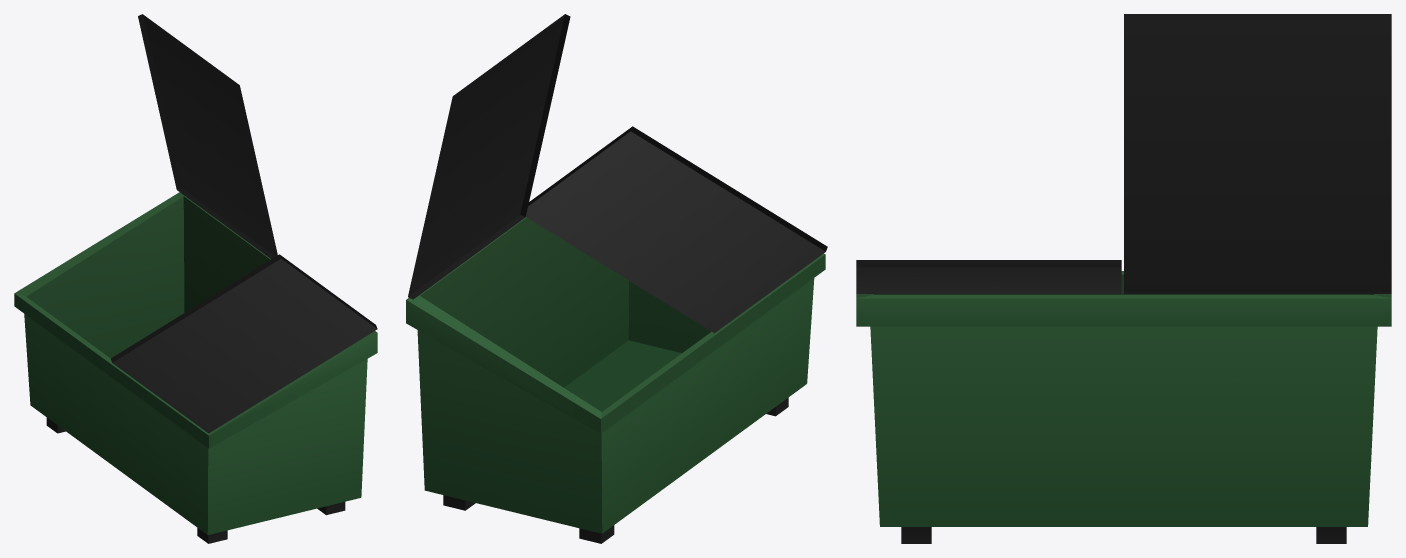
The model's file is Dumpster_1.fbx.
3 renders of one model, left to right at view 1: azimuth 30°, elevation 25°; view 2: azimuth 150°, elevation 25°; view 3: azimuth 270°, elevation 25°, orthographic. The views are drawn at different scales.
Parts seen in each view (by area): view 1: Cube.129; view 2: Cube.129; view 3: Cube.129.
Boxes of the visible parts, box(x1,y1,x2,y2) form: Cube.129: box(14, 14, 377, 543); Cube.129: box(406, 14, 827, 543); Cube.129: box(856, 14, 1391, 543).
Bounding box in the file's own units: 217 × 452 × 428.
